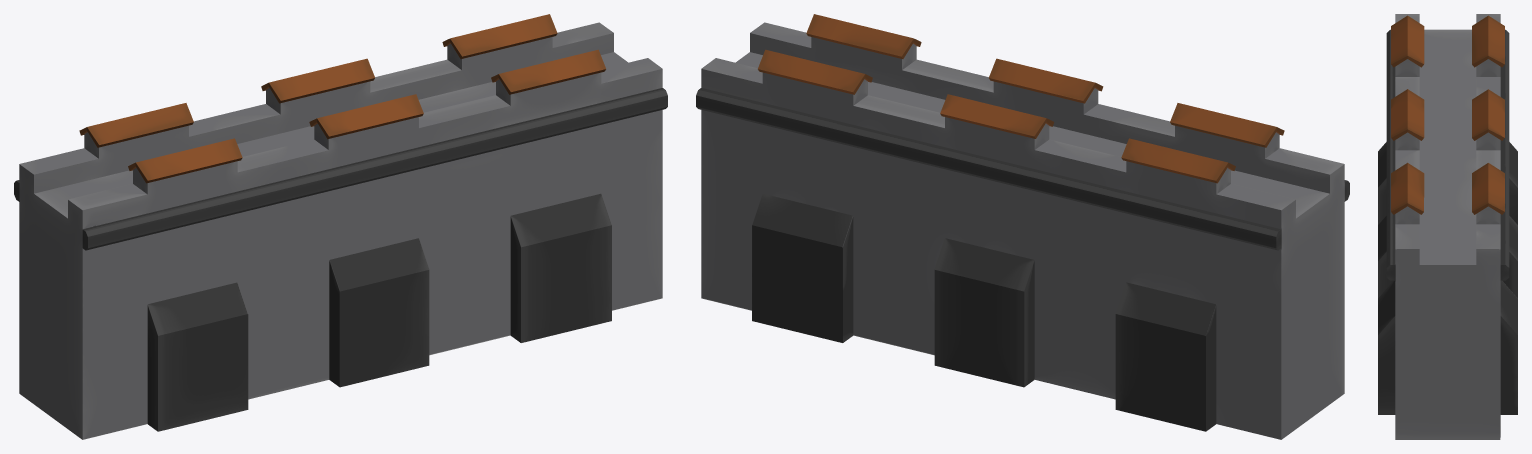
The model's file is Caslte_wall.fbx.
3 views of the same model, side by side, from view 1: azimuth 30°, elevation 25°; view 2: azimuth 150°, elevation 25°; view 3: azimuth 270°, elevation 25° (orthographic). The views are drawn at different scales.
Visible parts, largest first — view 1: Castle_Wall1; view 2: Castle_Wall1; view 3: Castle_Wall1.
Part boxes in pixels (left/top/right/bottom): Castle_Wall1: left=14, top=14, right=667, bottom=439; Castle_Wall1: left=696, top=14, right=1349, bottom=439; Castle_Wall1: left=1378, top=14, right=1517, bottom=439.
Bounding box in the file's own units: 63.82 × 27.05 × 16.05.
